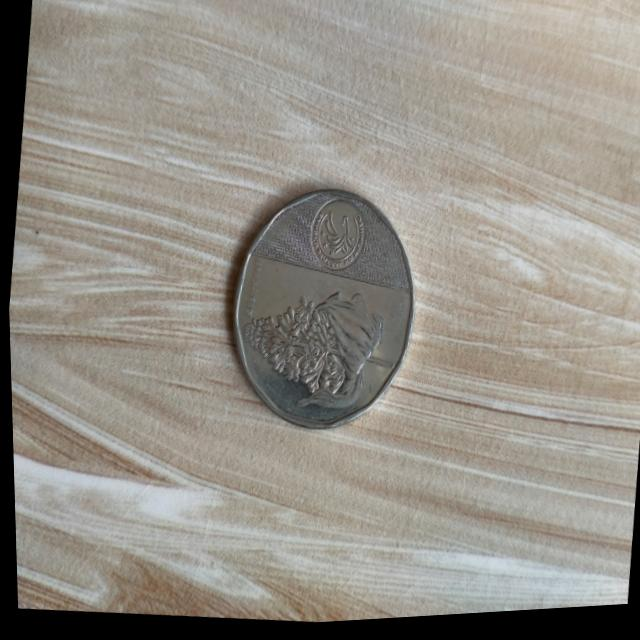10_New_Back: (227, 273, 388, 416)
